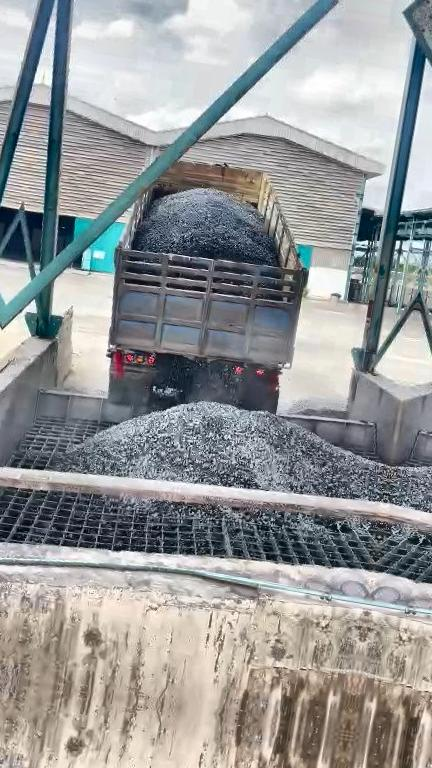gravel: (59, 402, 391, 501), (134, 188, 278, 266), (144, 500, 338, 534), (283, 398, 347, 419)
